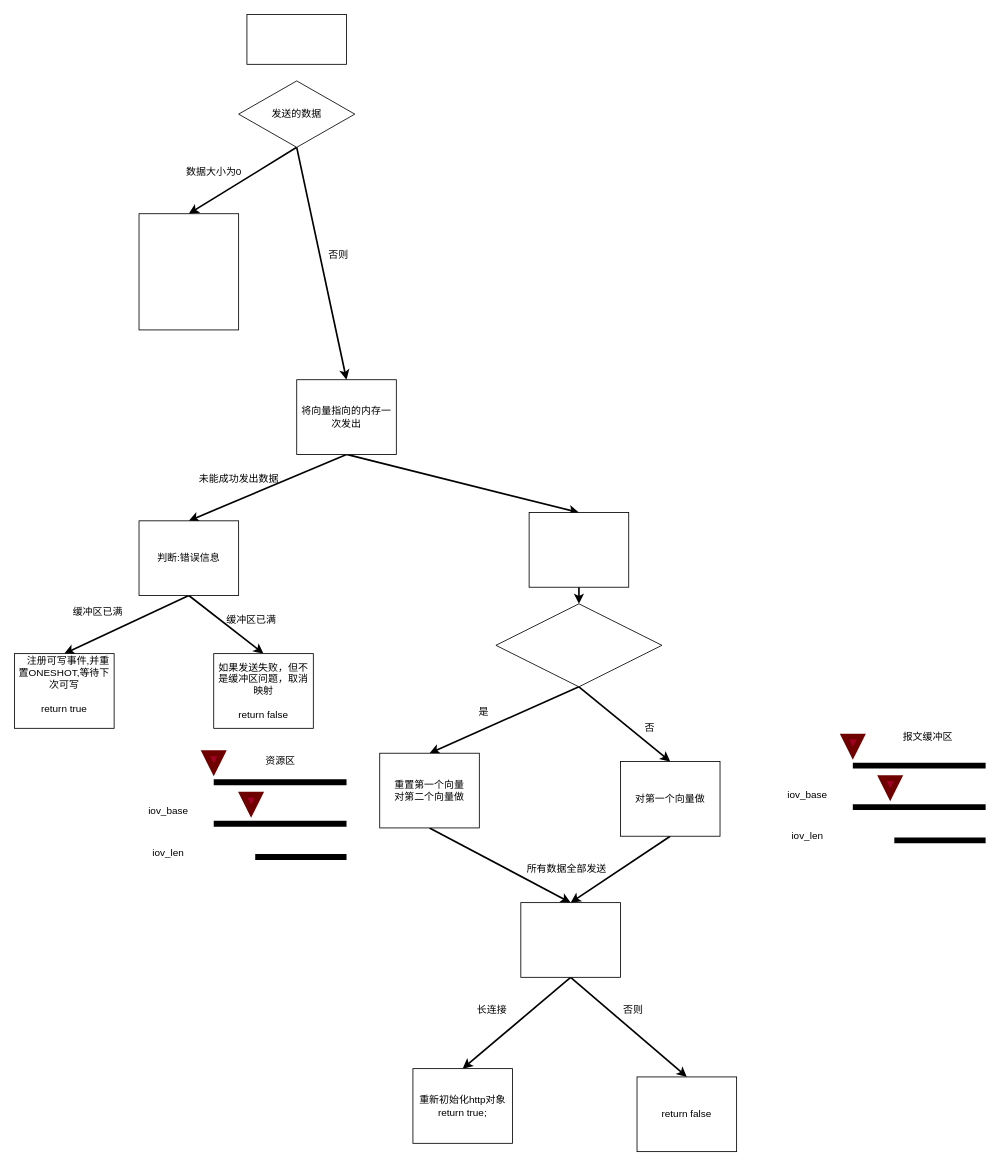
This 1003x1166 diagram has some shape labels left out. Each missing label, with the box of its shape:
write: (246, 14, 347, 64)
取消映射 注册可读事件,并重置ONESHOT: (520, 902, 620, 977)
更新已发送和未发送字节数: (528, 512, 629, 587)
注册可读事件,并重置ONESHOT 初始化该线程 return true: (138, 213, 239, 330)
第一个向量中的 文件是否发送完: (495, 603, 662, 687)
